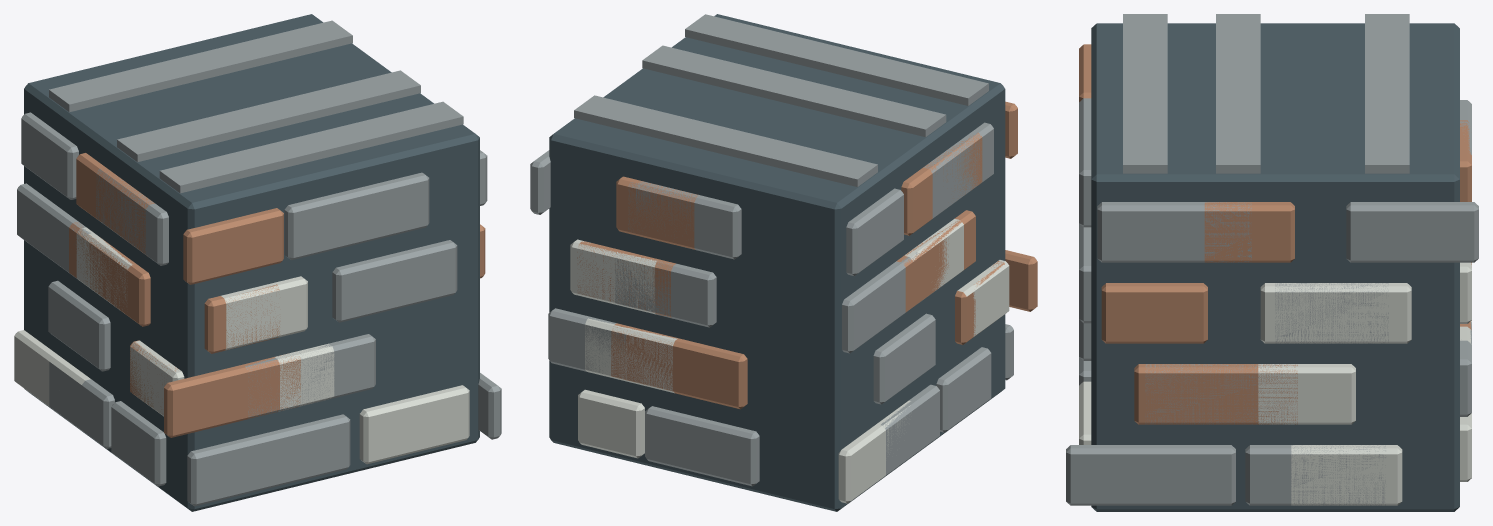
Rendered from cradle_compacted_scrap.glb.
3 renders of one model, left to right at view 1: azimuth 30°, elevation 25°; view 2: azimuth 150°, elevation 25°; view 3: azimuth 270°, elevation 25°, orthographic. The views are drawn at different scales.
Visible parts, largest first — view 1: deepsteel, steel.026, steel.025, steel.024, rust.005, steel.007, steel.009, ceramic.003, rust.003, steel.008, ceramic.005, steel.010 (+17 smaller); view 2: deepsteel, steel.025, steel.024, steel.026, rust.002, steel.001, steel.002, rust, ceramic.002, ceramic.001, steel.013, ceramic (+18 smaller); view 3: deepsteel, steel.020, ceramic.011, rust.011, steel.023, steel.021, steel.024, steel.025, steel.026, ceramic.009, rust.010, ceramic.010 (+14 smaller).
Boxes of the visible parts, x1,y1,x2,y2 form: deepsteel: [24, 14, 479, 511]; steel.026: [159, 101, 463, 193]; steel.025: [117, 70, 420, 162]; steel.024: [49, 20, 352, 112]; rust.005: [164, 351, 300, 437]; steel.007: [332, 240, 457, 322]; steel.009: [307, 172, 429, 255]; ceramic.003: [359, 385, 469, 464]; rust.003: [183, 208, 283, 284]; steel.008: [251, 414, 350, 490]; ceramic.005: [221, 276, 307, 350]; steel.010: [187, 431, 280, 506]; deepsteel: [549, 14, 1005, 511]; steel.025: [642, 45, 946, 137]; steel.024: [574, 95, 877, 186]; steel.026: [685, 14, 988, 105]; rust.002: [611, 323, 747, 409]; steel.001: [615, 254, 716, 327]; steel.002: [679, 414, 759, 486]; rust: [616, 176, 697, 249]; ceramic.002: [570, 239, 656, 314]; ceramic.001: [585, 318, 677, 393]; steel.013: [842, 252, 919, 353]; ceramic: [578, 389, 644, 458]; deepsteel: [1091, 23, 1459, 511]; steel.020: [1066, 445, 1235, 505]; ceramic.011: [1260, 283, 1411, 343]; rust.011: [1134, 364, 1297, 424]; steel.023: [1346, 202, 1478, 262]; steel.021: [1097, 202, 1251, 262]; steel.024: [1365, 14, 1409, 173]; steel.025: [1216, 14, 1260, 173]; steel.026: [1123, 14, 1167, 173]; ceramic.009: [1291, 445, 1402, 505]; rust.010: [1101, 283, 1207, 343]; ceramic.010: [1258, 364, 1355, 424].
Bounding box in the file's own units: 1.11 × 1.03 × 1.11.
